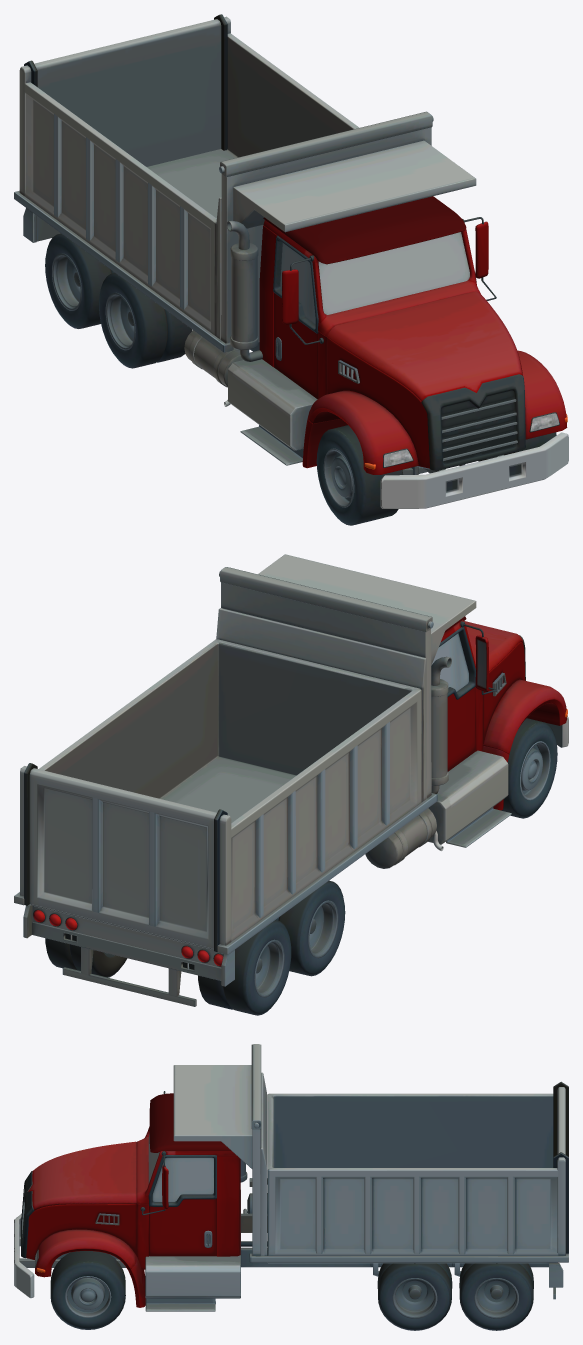
The model's file is Truck.fbx.
The picture shows the model from 3 angles, top to bottom: view 1: azimuth 30°, elevation 25°; view 2: azimuth 150°, elevation 25°; view 3: azimuth 270°, elevation 25°; orthographic projection. The views are drawn at different scales.
Visible parts, largest first — view 1: node_id271; view 2: node_id271; view 3: node_id271.
Part boxes in pixels (x1,y1,x2,y2): node_id271: (14,14,568,525); node_id271: (14,554,568,1015); node_id271: (14,1044,568,1330).
Size of the model in its own units: 0.4328 by 0.512 by 1.21.
Materials: 1 (1 with a texture image).
